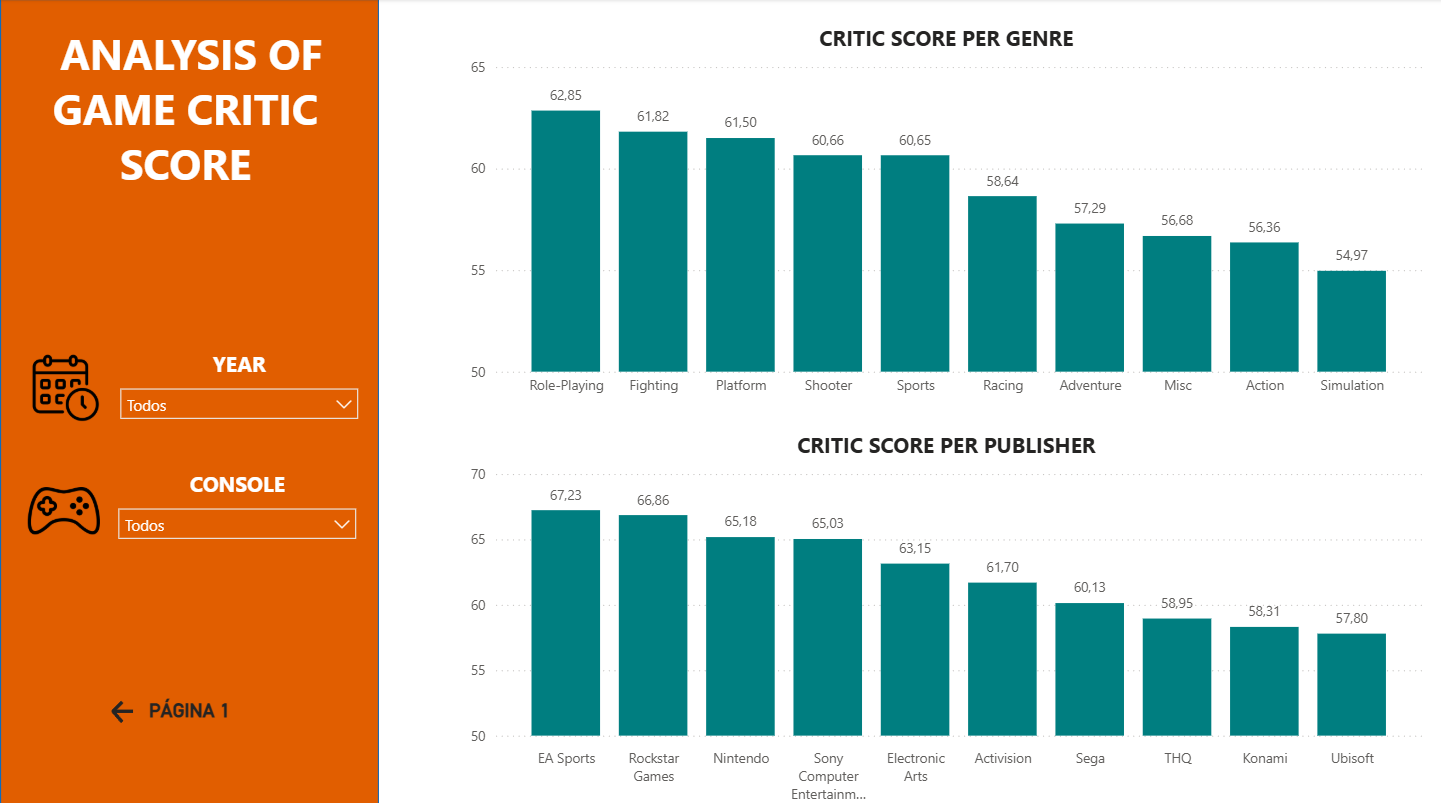

The page's visual inventory and layout, read from the dashboard file:
{"tool":"powerbi","page":{"name":"Nota Critica","canvas":[1280,720],"ordinal":1},"visuals":[{"type":"shape","box":[0,0,336.1,720],"z":0},{"type":"clusteredColumnChart","title":"CRITIC SCORE PER PUBLISHER","fields":{"Y":["Avg(vgchartz-2024.critic_score)"],"Category":["vgchartz-2024.publisher"]},"box":[412.3,382.1,853.7,338],"z":1000},{"type":"clusteredColumnChart","title":"CRITIC SCORE PER GENRE","fields":{"Y":["Avg(vgchartz-2024.critic_score)"],"Category":["vgchartz-2024.genre"]},"box":[412.3,20.9,853.7,339.2],"z":2000},{"type":"image","box":[18.6,417,76.7,74.3],"z":3000},{"type":"slicer","title":"YEAR","fields":{"Values":["vgchartz-2024.last_update.Variation.Hierarquia de datas.Ano"]},"box":[96.4,310.1,231.1,72],"z":4000},{"type":"slicer","title":"CONSOLE","fields":{"Values":["vgchartz-2024.console"]},"box":[95.2,417,231.1,94.1],"z":5000},{"type":"image","box":[20.9,306.6,74.3,75.5],"z":6000},{"type":"textbox","box":[10.1,18.1,309.4,212.7],"z":7000},{"type":"actionButton","box":[94.9,618,39.9,28.4],"z":8000},{"type":"textbox","box":[112.6,615.4,110.8,33.7],"z":9000}]}

Visuals, with their boxes in screenshot pixels (x1, y1, x2, y2), scaled from the page's 1280x720 canvas onto the 1441x803 screenshot:
shape: {"left": 0, "top": 0, "right": 378, "bottom": 802}
"CRITIC SCORE PER PUBLISHER" clusteredColumnChart: {"left": 464, "top": 426, "right": 1425, "bottom": 802}
"CRITIC SCORE PER GENRE" clusteredColumnChart: {"left": 464, "top": 23, "right": 1425, "bottom": 402}
image: {"left": 21, "top": 465, "right": 107, "bottom": 548}
"YEAR" slicer: {"left": 109, "top": 346, "right": 369, "bottom": 426}
"CONSOLE" slicer: {"left": 107, "top": 465, "right": 367, "bottom": 570}
image: {"left": 24, "top": 342, "right": 107, "bottom": 426}
textbox: {"left": 11, "top": 20, "right": 360, "bottom": 257}
actionButton: {"left": 107, "top": 689, "right": 152, "bottom": 721}
textbox: {"left": 127, "top": 686, "right": 251, "bottom": 724}
